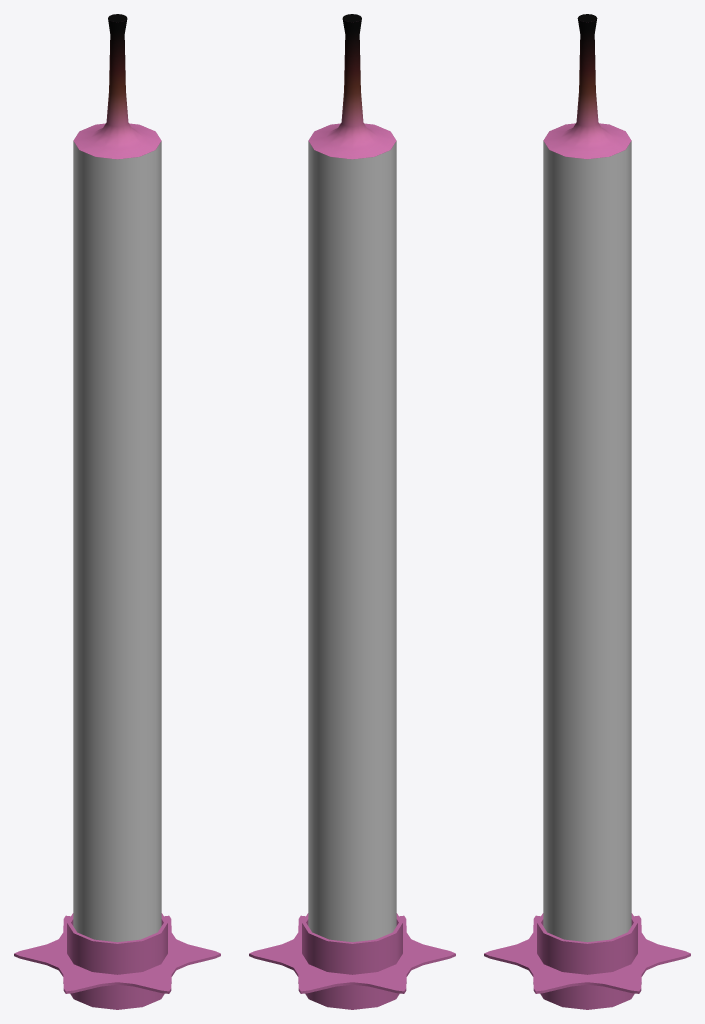
File: Birthday_Candle_Pink.fbx
3 renders of one model, left to right at view 1: azimuth 30°, elevation 25°; view 2: azimuth 150°, elevation 25°; view 3: azimuth 270°, elevation 25°, orthographic.
Parts seen in each view (by area): view 1: Candle_Pink, Candle_Holder_Pink; view 2: Candle_Pink, Candle_Holder_Pink; view 3: Candle_Pink, Candle_Holder_Pink.
Part boxes in pixels (x1,y1,x2,y2): Candle_Pink: (73,14,161,942); Candle_Holder_Pink: (14,913,220,1009); Candle_Pink: (308,14,396,942); Candle_Holder_Pink: (249,913,455,1009); Candle_Pink: (543,14,631,942); Candle_Holder_Pink: (484,913,690,1009).
Bounding box in the file's own units: 1.64 × 9.81 × 1.9.
